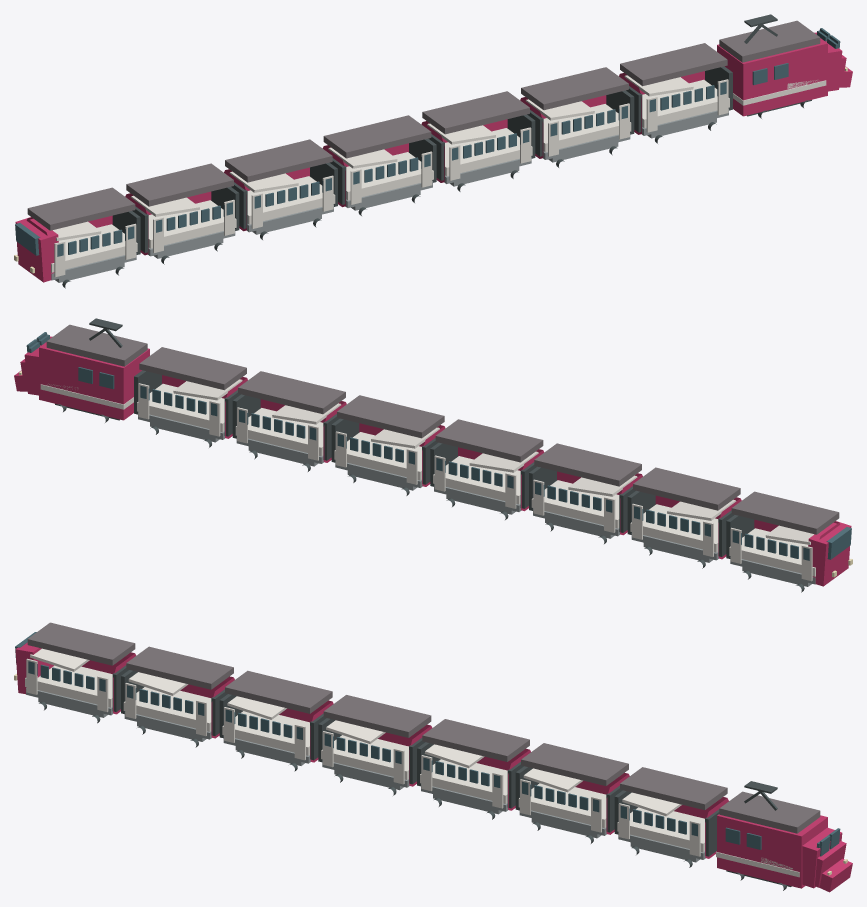
Rendered from railjet.glb.
3 views of the same model, one above another, from view 1: azimuth 30°, elevation 25°; view 2: azimuth 150°, elevation 25°; view 3: azimuth 330°, elevation 25° (orthographic).
Visible parts, largest first — view 1: body_shell, railjet_car_4_roof, railjet_car_7_roof, railjet_car_2_roof, railjet_car_5_roof, railjet_car_6_roof, railjet_car_3_roof, railjet_car_1_roof, roof, railjet_car_1_identity_stripe, railjet_car_4_identity_stripe, railjet_car_5_identity_stripe (+27 smaller); view 2: body_shell, railjet_car_4_roof, railjet_car_7_roof, railjet_car_2_roof, railjet_car_5_roof, railjet_car_6_roof, railjet_car_3_roof, railjet_car_1_roof, roof, railjet_car_1_identity_stripe, railjet_car_4_identity_stripe, railjet_car_5_identity_stripe (+27 smaller); view 3: body_shell, railjet_car_7_roof, railjet_car_4_roof, railjet_car_1_roof, railjet_car_2_roof, railjet_car_3_roof, railjet_car_5_roof, railjet_car_6_roof, roof, railjet_car_3_identity_stripe, railjet_car_4_identity_stripe, railjet_car_6_identity_stripe (+25 smaller).
Part boxes in pixels (bbox=[...]): body_shell: bbox=[717, 38, 827, 116]; railjet_car_4_roof: bbox=[323, 115, 431, 158]; railjet_car_7_roof: bbox=[27, 187, 135, 230]; railjet_car_2_roof: bbox=[521, 67, 628, 110]; railjet_car_5_roof: bbox=[225, 139, 332, 182]; railjet_car_6_roof: bbox=[126, 163, 233, 206]; railjet_car_3_roof: bbox=[422, 91, 529, 134]; railjet_car_1_roof: bbox=[620, 43, 727, 86]; roof: bbox=[719, 20, 820, 62]; railjet_car_1_identity_stripe: bbox=[642, 79, 729, 128]; railjet_car_4_identity_stripe: bbox=[346, 152, 433, 200]; railjet_car_5_identity_stripe: bbox=[247, 176, 335, 224]; body_shell: bbox=[39, 342, 149, 420]; railjet_car_4_roof: bbox=[435, 419, 543, 462]; railjet_car_7_roof: bbox=[731, 491, 839, 534]; railjet_car_2_roof: bbox=[238, 371, 345, 414]; railjet_car_5_roof: bbox=[534, 443, 641, 486]; railjet_car_6_roof: bbox=[633, 467, 740, 510]; railjet_car_3_roof: bbox=[337, 395, 444, 438]; railjet_car_1_roof: bbox=[139, 347, 246, 390]; roof: bbox=[46, 324, 147, 366]; railjet_car_1_identity_stripe: bbox=[137, 383, 224, 432]; railjet_car_4_identity_stripe: bbox=[433, 456, 520, 504]; railjet_car_5_identity_stripe: bbox=[531, 480, 619, 528]; body_shell: bbox=[717, 814, 827, 888]; railjet_car_7_roof: bbox=[27, 622, 135, 665]; railjet_car_4_roof: bbox=[323, 695, 431, 737]; railjet_car_1_roof: bbox=[620, 767, 727, 810]; railjet_car_2_roof: bbox=[521, 743, 628, 785]; railjet_car_3_roof: bbox=[422, 719, 529, 761]; railjet_car_5_roof: bbox=[225, 670, 332, 713]; railjet_car_6_roof: bbox=[126, 646, 233, 689]; roof: bbox=[719, 791, 820, 833]; railjet_car_3_identity_stripe: bbox=[420, 759, 507, 803]; railjet_car_4_identity_stripe: bbox=[321, 735, 408, 779]; railjet_car_6_identity_stripe: bbox=[123, 687, 211, 731].
Bounding box in the file's own units: 12.95 × 1.32 × 0.791.
